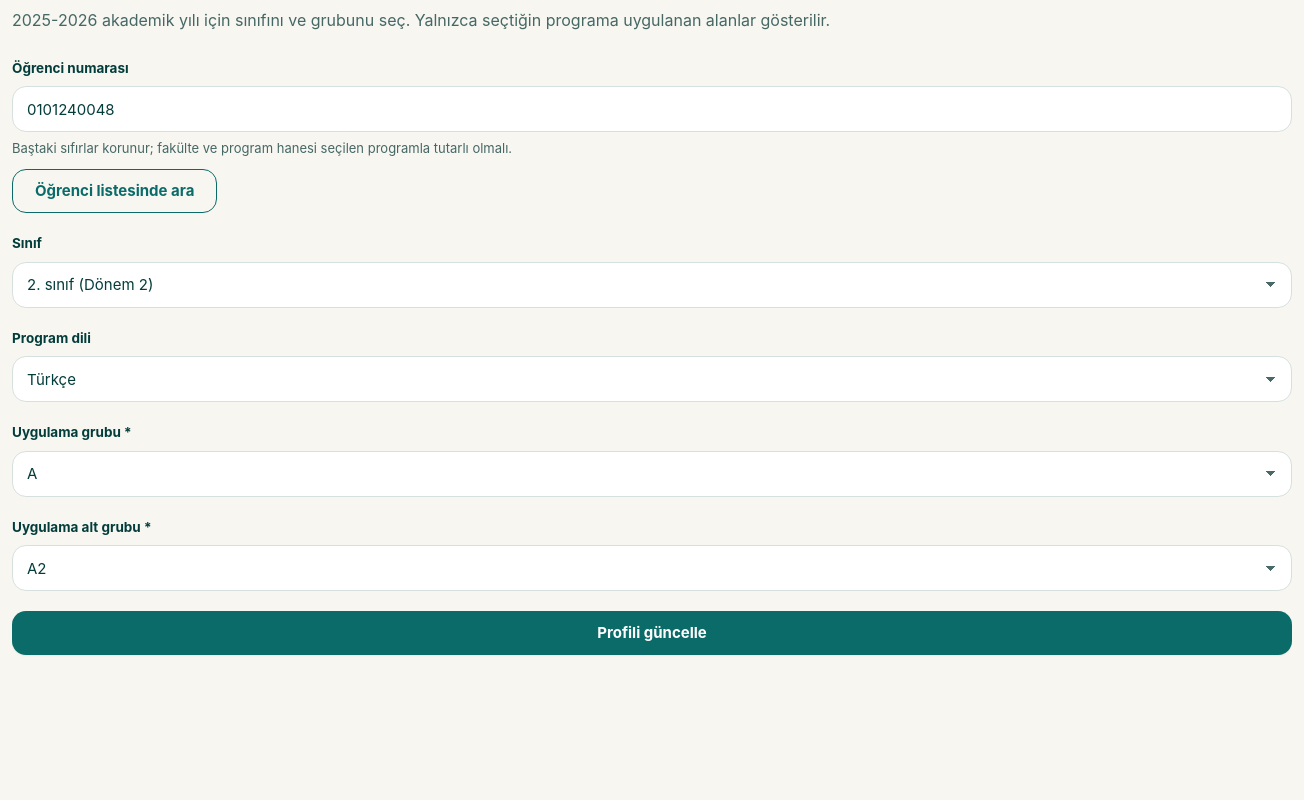
it: AcademicProfileForm › clears a dependent selector when its parent changes
Select "C" in the dropdown labelled "Uygulama grubu *": (652, 474) x1=12 y1=451 x2=1292 y2=497
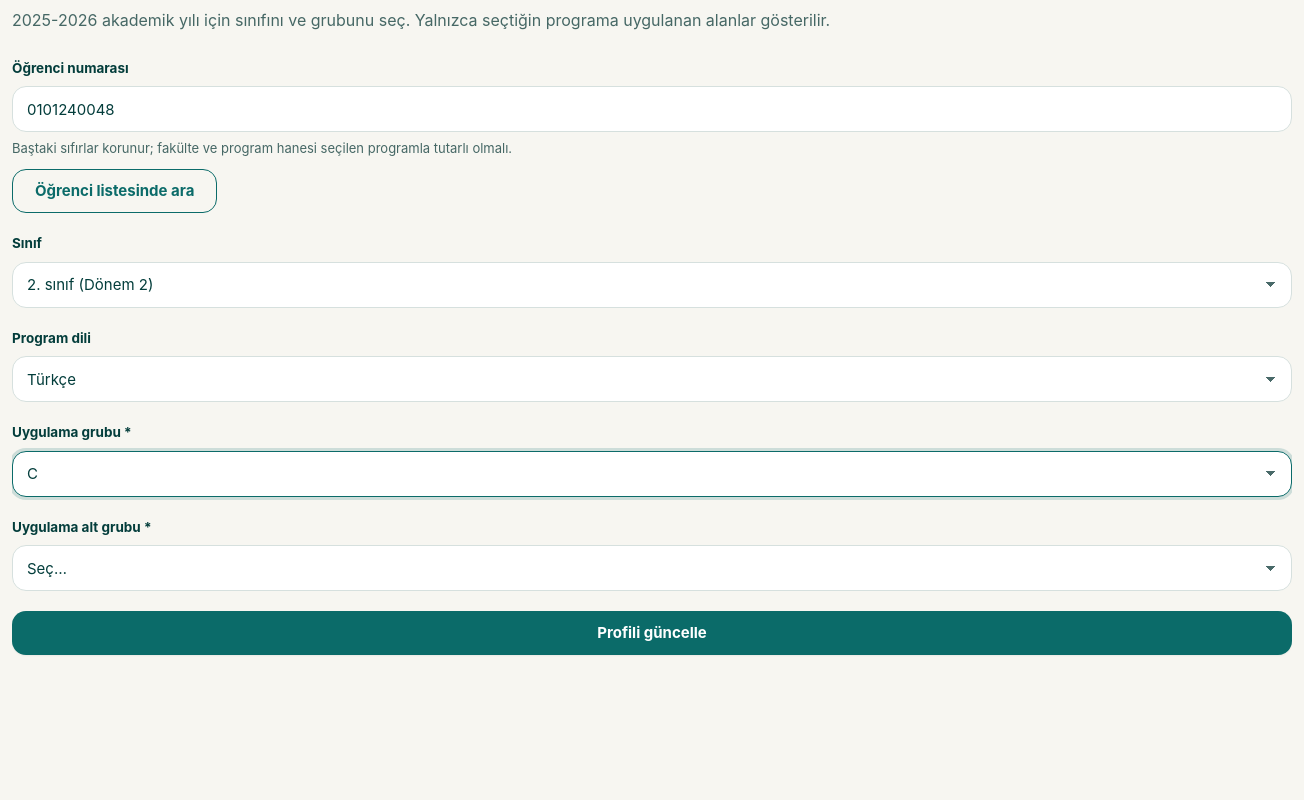
Now the dropdown labelled "Uygulama alt grubu *" shows "Seç…", box x1=12 y1=545 x2=1292 y2=591
